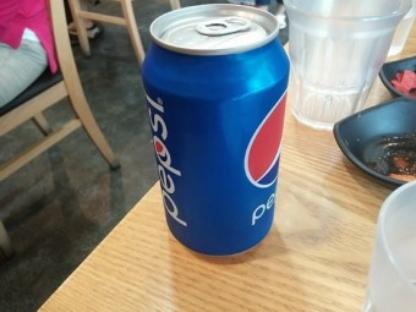Can: (143, 4, 292, 260)
